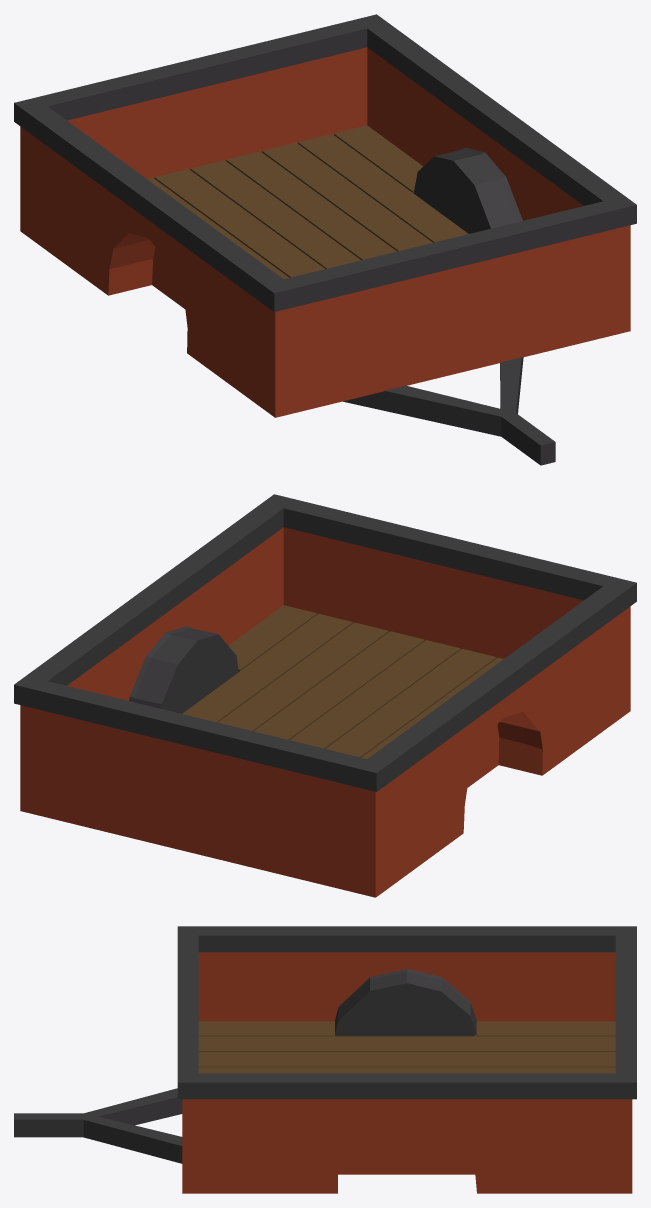
Rendered from Mesh_Vehicles_CarTrailer_01.obj.
3 views of the same model, one above another, from view 1: azimuth 30°, elevation 25°; view 2: azimuth 150°, elevation 25°; view 3: azimuth 270°, elevation 25° (orthographic). The views are drawn at different scales.
Parts seen in each view (by area): view 1: Mesh_Vehicles_CarTrailer_01_M_LowPolyFarm_MAIN; view 2: Mesh_Vehicles_CarTrailer_01_M_LowPolyFarm_MAIN; view 3: Mesh_Vehicles_CarTrailer_01_M_LowPolyFarm_MAIN.
Boxes of the visible parts, box(x1,y1,x2,y2) form: Mesh_Vehicles_CarTrailer_01_M_LowPolyFarm_MAIN: box(14, 14, 636, 465); Mesh_Vehicles_CarTrailer_01_M_LowPolyFarm_MAIN: box(14, 494, 636, 897); Mesh_Vehicles_CarTrailer_01_M_LowPolyFarm_MAIN: box(14, 926, 636, 1193).
Bounding box in the file's own units: 1.64 × 0.6363 × 2.77.
Materials: 1 (1 with a texture image).
